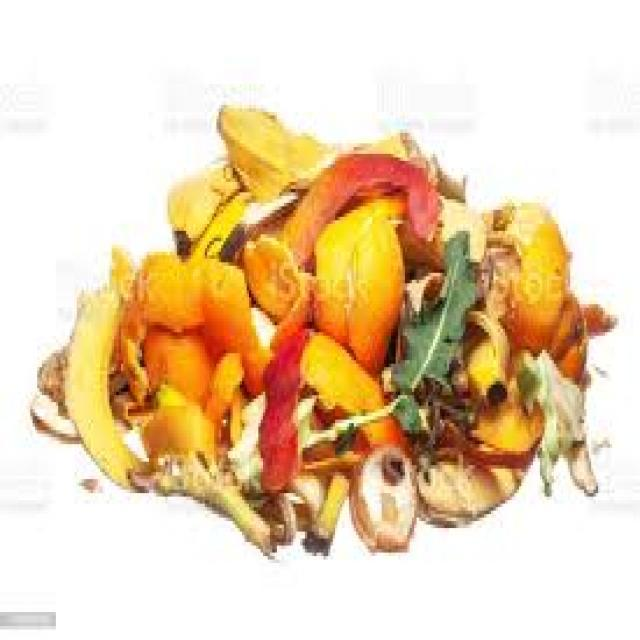Wet: (16, 55, 640, 588)
